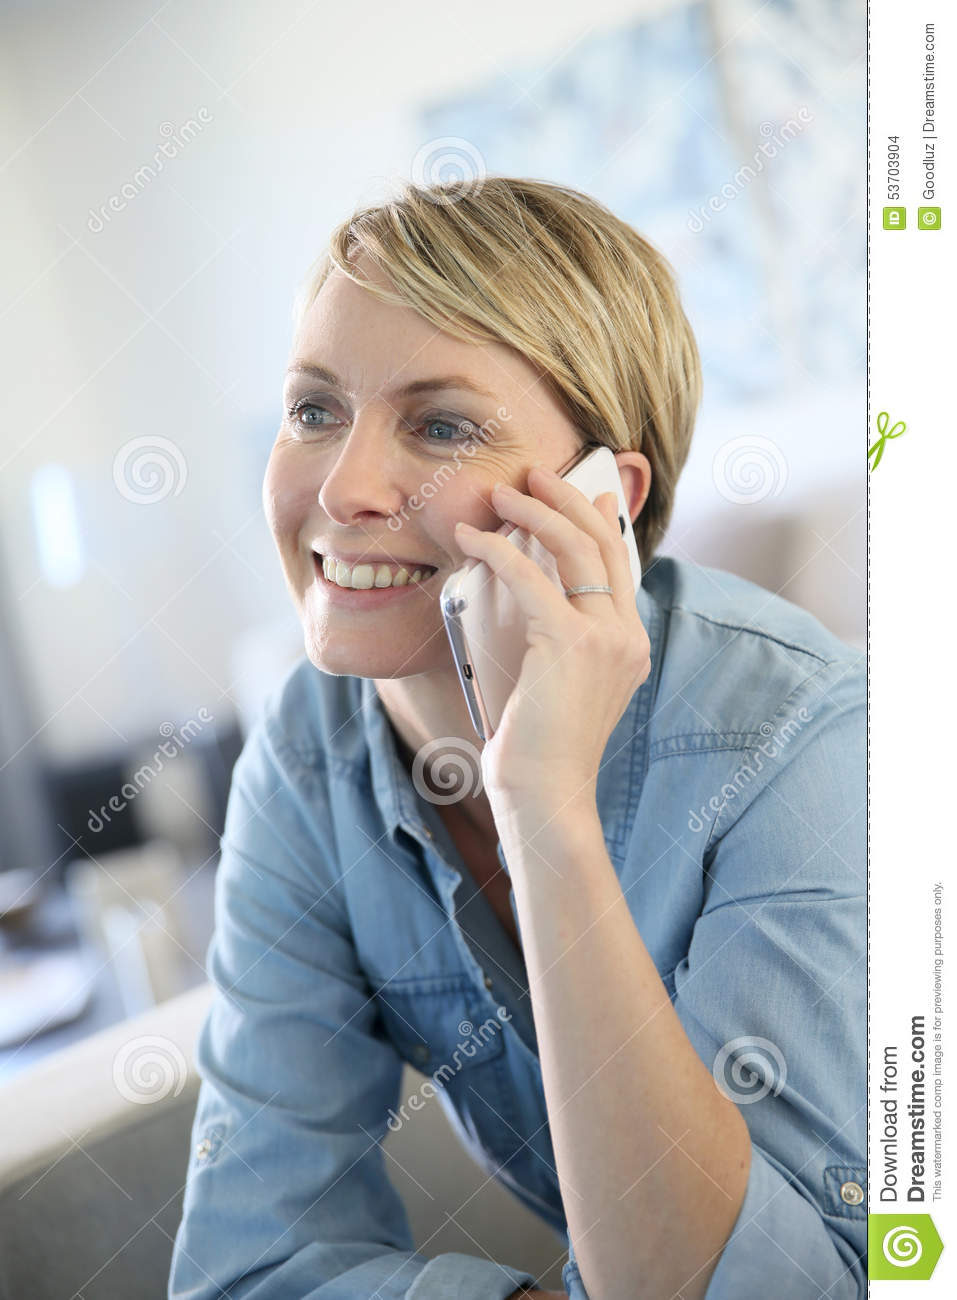phone: (443, 441, 642, 750)
talk: (261, 347, 660, 862)
